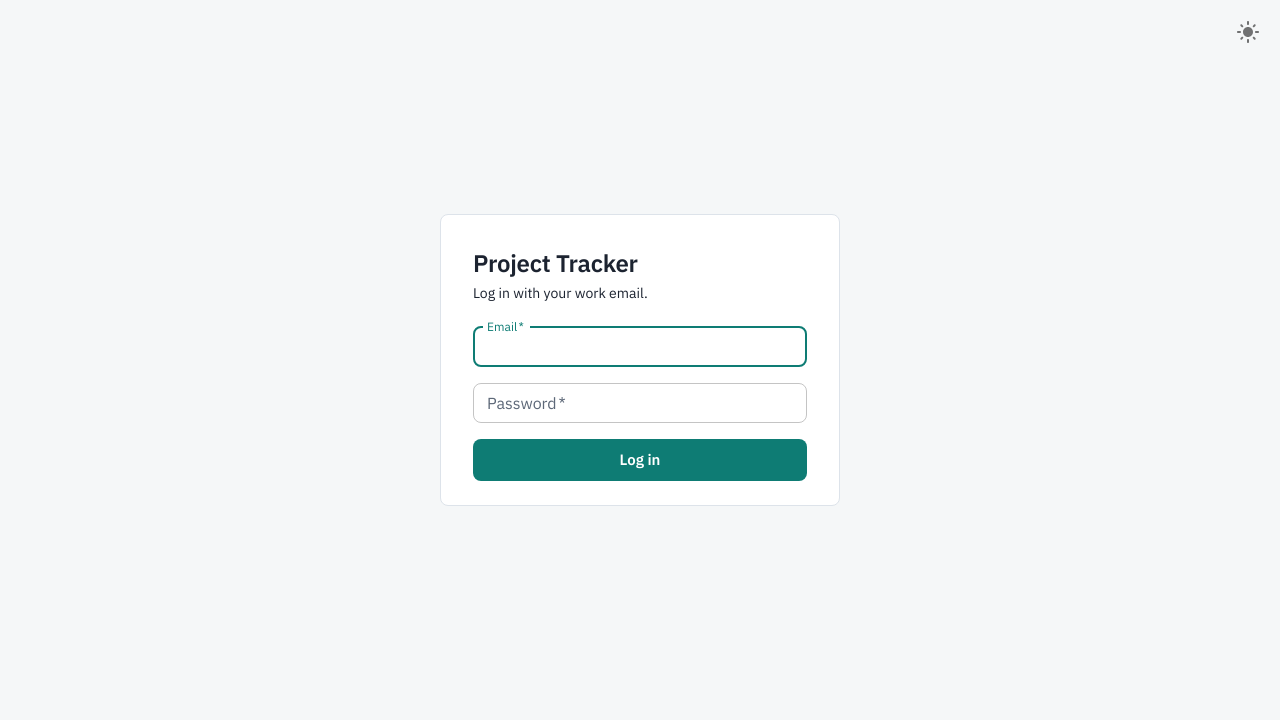
Test: logging in › logs in and opens the dashboard
In the field labelled "Email *": (640, 347) x1=473 y1=327 x2=807 y2=367, type "ada@example.com"
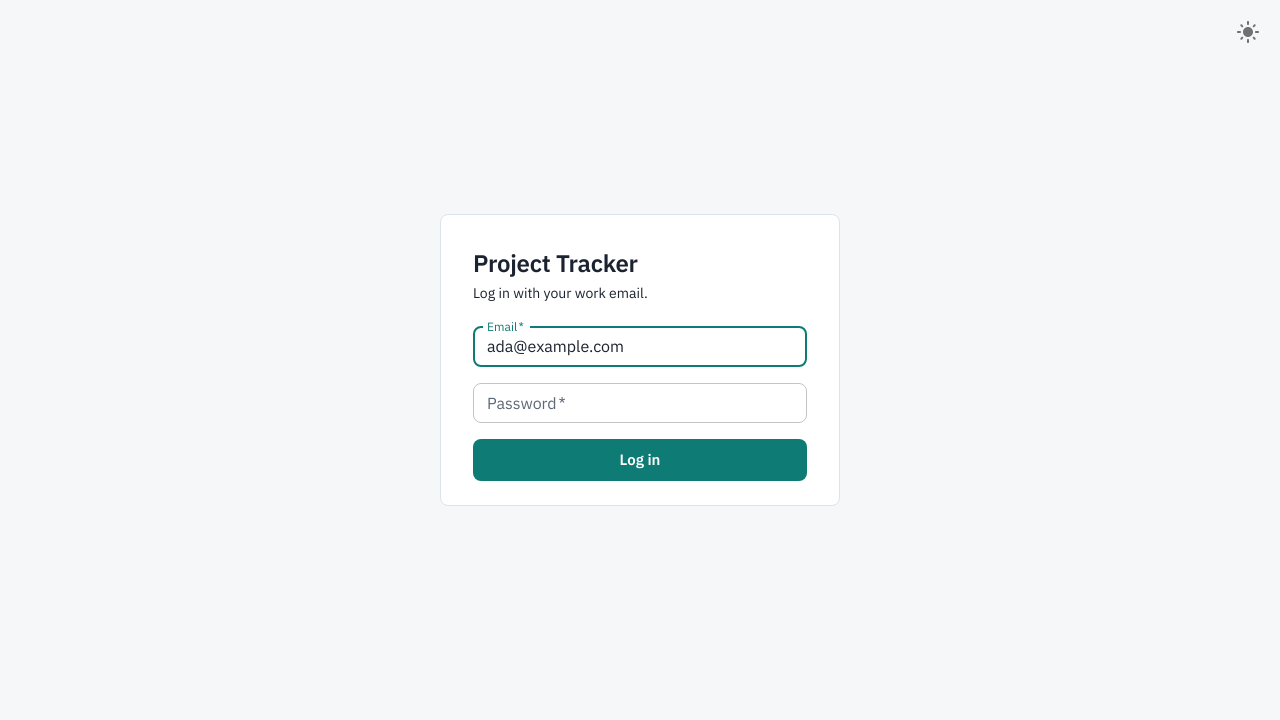
In the password field labelled "Password *": (640, 403) x1=473 y1=383 x2=807 y2=423, type "a long password"
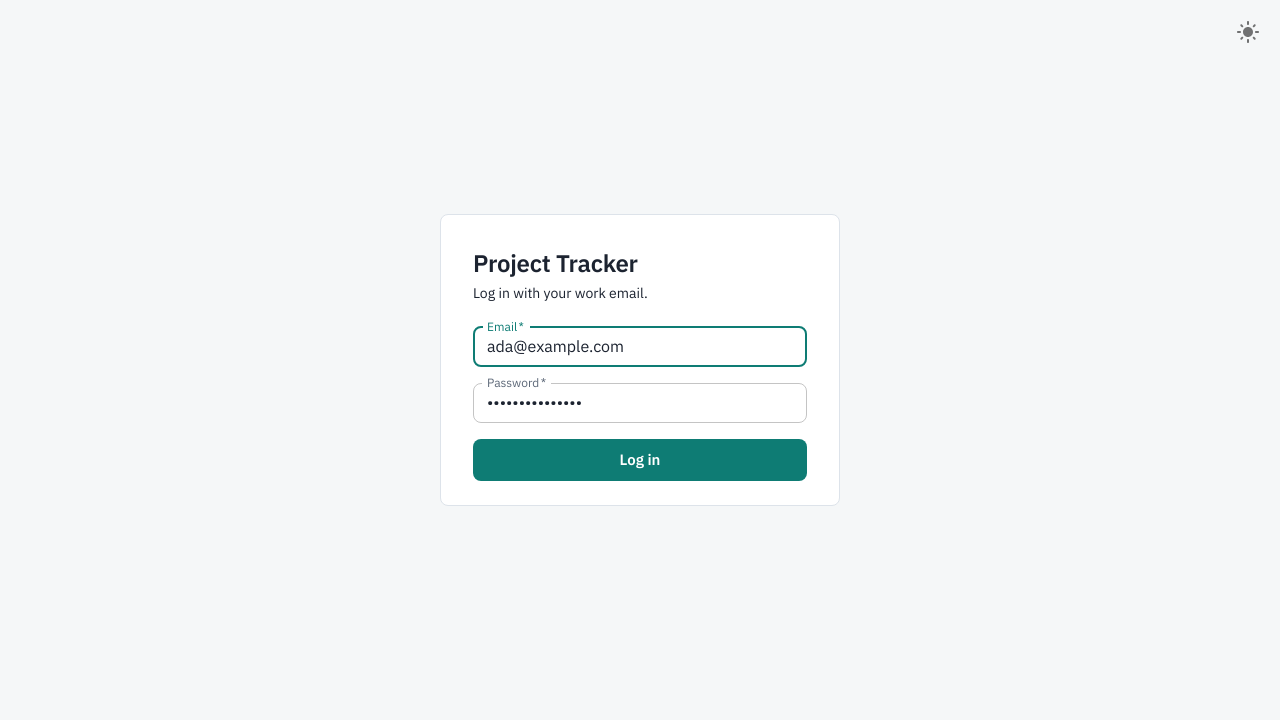
Click the button "Log in": (640, 460) x1=473 y1=439 x2=807 y2=481
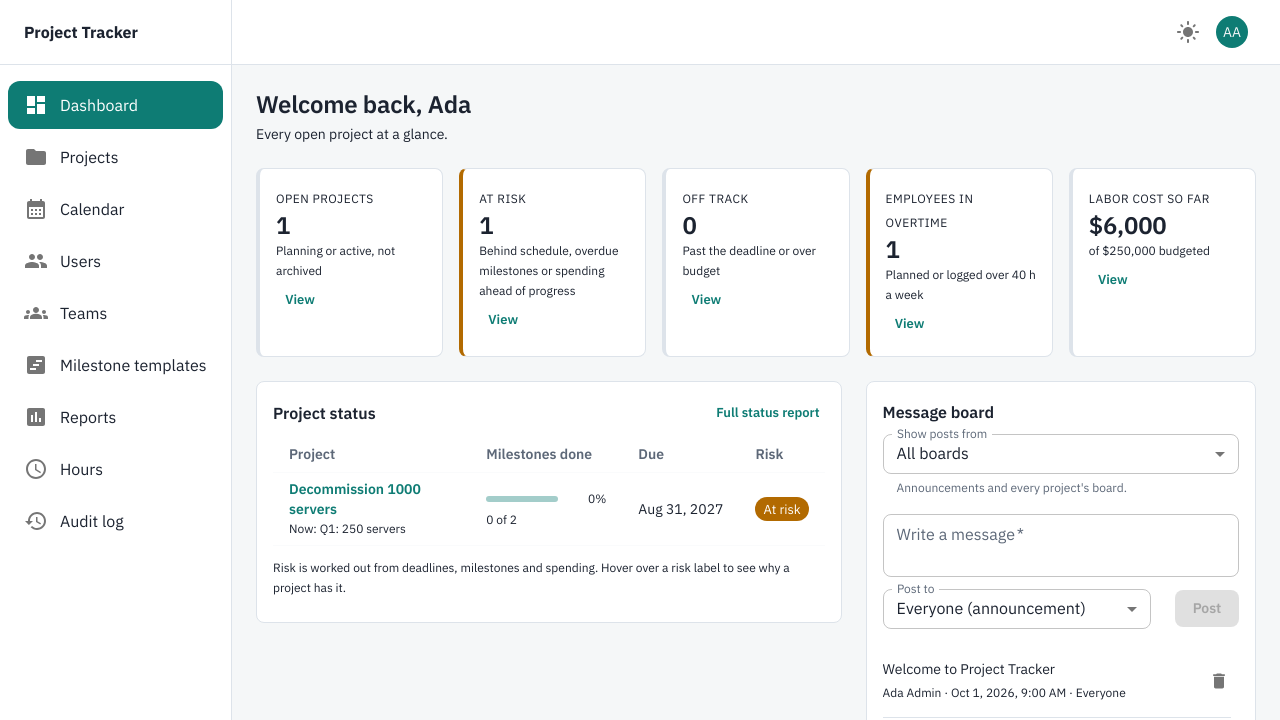
Result: the heading "Welcome back, Ada" is shown at x1=256 y1=88 x2=471 y2=120
